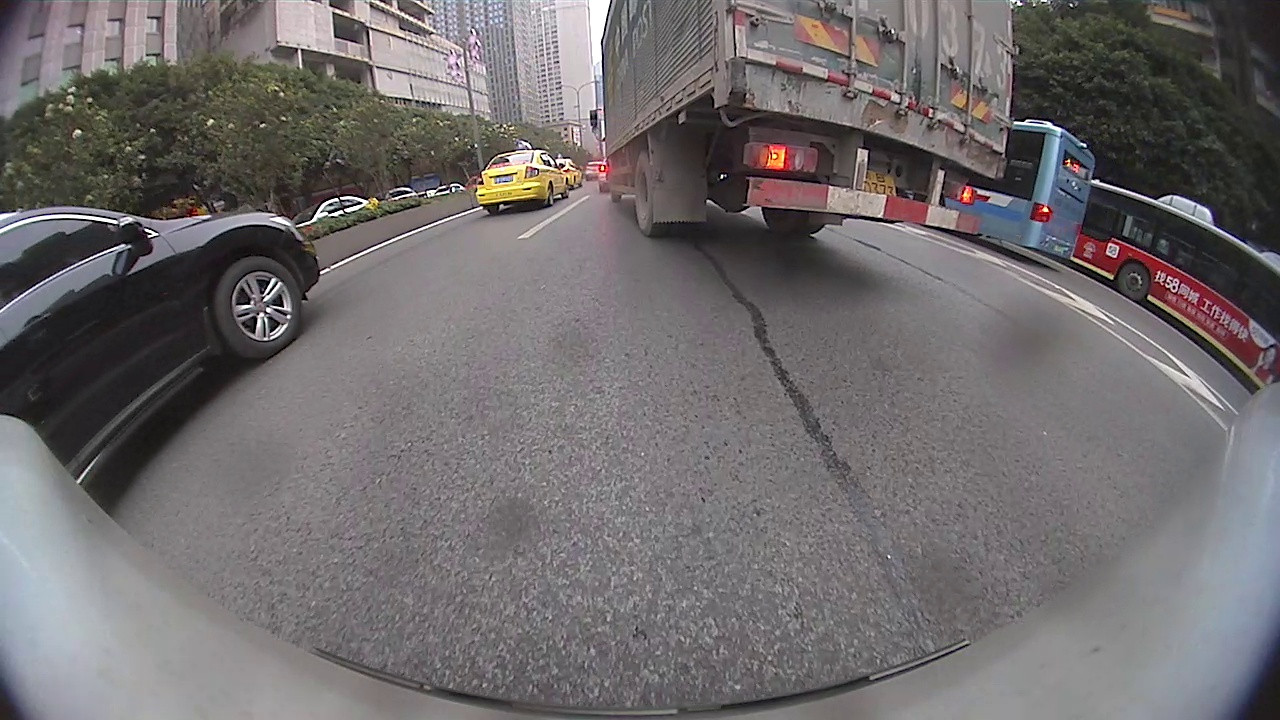bus: (1070, 176, 1277, 388), (962, 110, 1094, 264)
car: (2, 205, 319, 485), (475, 150, 573, 214)
front: (211, 253, 305, 364), (1114, 261, 1151, 304)
rear: (633, 149, 689, 238)
truck: (586, 2, 1015, 238)
